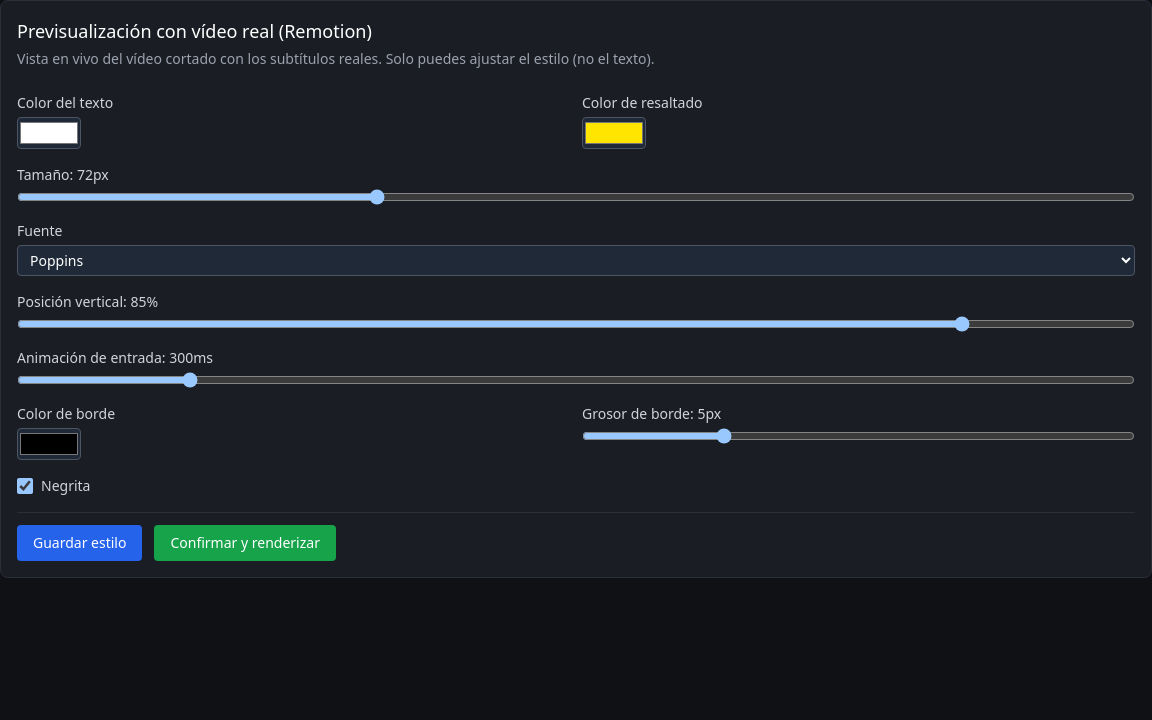
Test: PreviewRemotionReal (5.4) — Guardar estilo › muestra mensaje de éxito tras guardar (Req 5.3)
Click the button with test id "guardar-estilo" at (80, 543), box [17, 525, 142, 561]
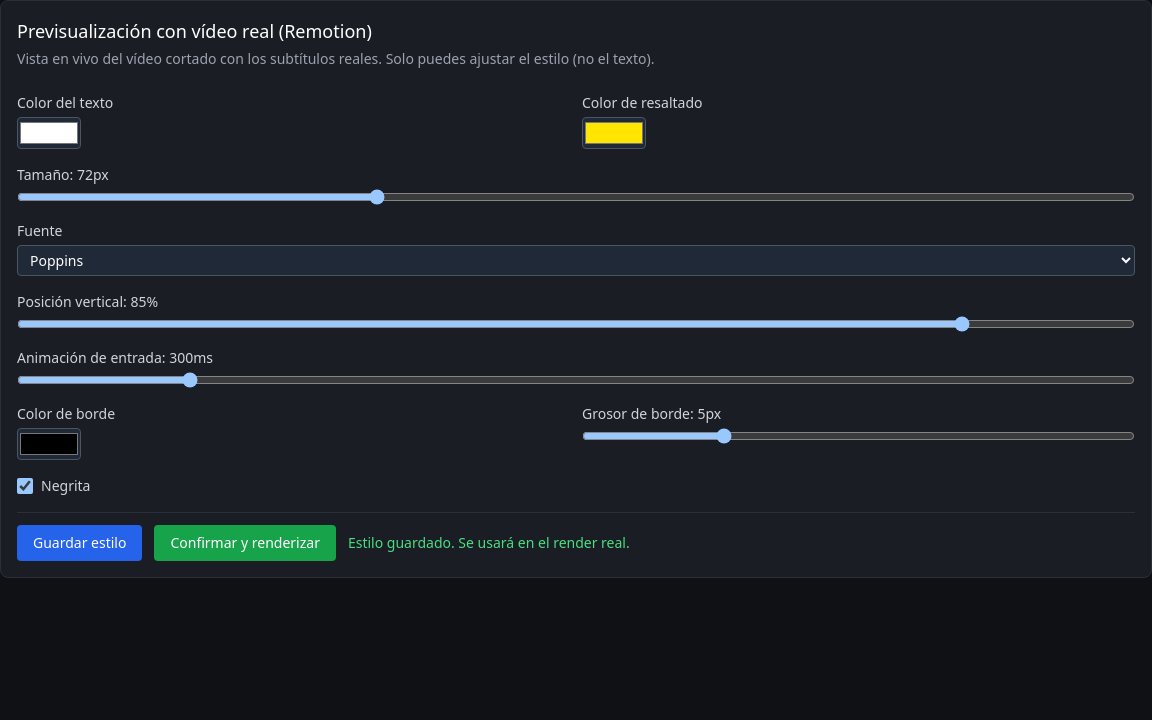
Result: the message with test id "guardar-mensaje" shows "Estilo guardado" at [348, 533, 630, 552]
